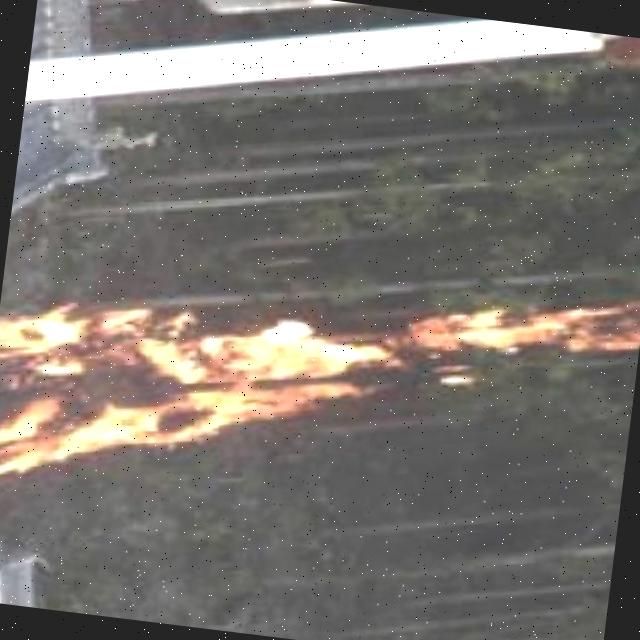fire: (0, 185, 640, 558)
